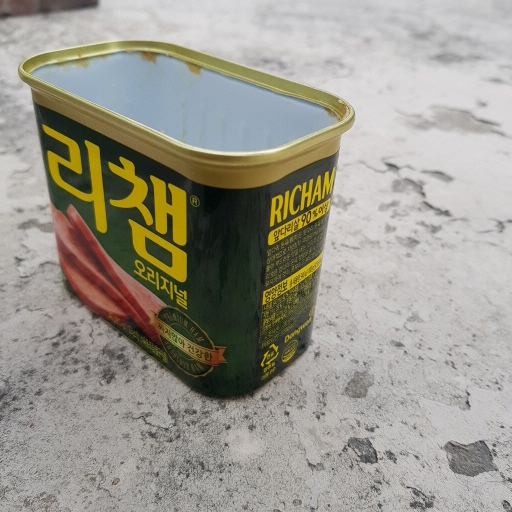Metal_2: (16, 32, 359, 402)
